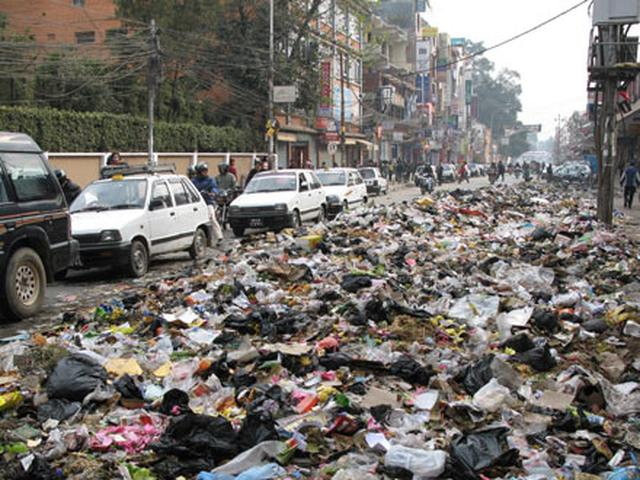garbage: (53, 330, 637, 478), (248, 251, 612, 328), (432, 194, 580, 254)
